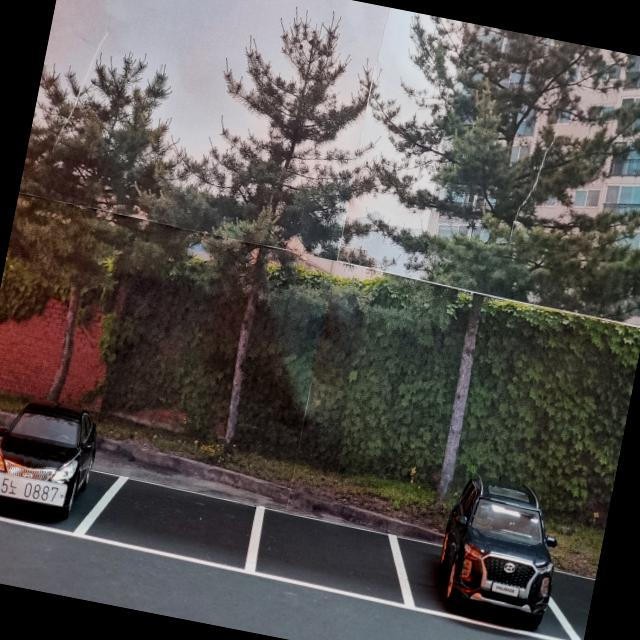car: (406, 459, 600, 640), (0, 388, 103, 535)
free: (228, 499, 426, 619), (76, 462, 268, 580)
